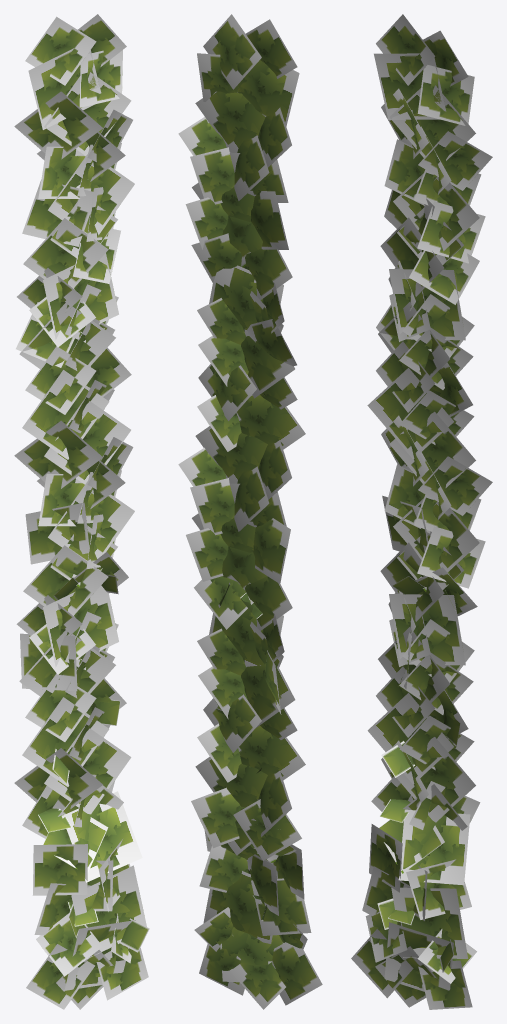
The model's file is Ivy_05.glb.
3 renders of one model, left to right at view 1: azimuth 30°, elevation 25°; view 2: azimuth 150°, elevation 25°; view 3: azimuth 330°, elevation 25°, orthographic.
Visible parts, largest first — view 1: Ivy_05_LOD0; view 2: Ivy_05_LOD0; view 3: Ivy_05_LOD0.
Boxes of the visible parts, box(x1,y1,x2,y2) form: Ivy_05_LOD0: box(14, 14, 149, 1009); Ivy_05_LOD0: box(178, 14, 322, 1009); Ivy_05_LOD0: box(351, 14, 492, 1009).
Size of what is drawn, in the model's own units: 0.9219 by 6.97 by 0.4639.
Materials: 1 (1 with a texture image).
